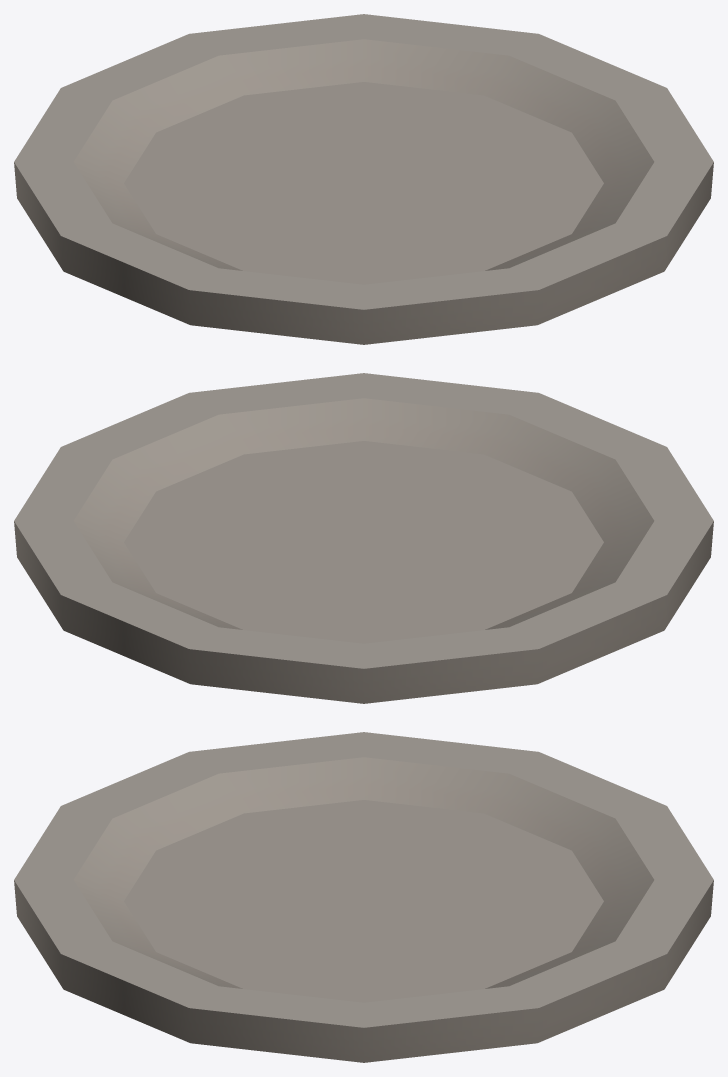
The model's file is plate.obj.
The picture shows the model from 3 angles, top to bottom: view 1: azimuth 30°, elevation 25°; view 2: azimuth 150°, elevation 25°; view 3: azimuth 270°, elevation 25°; orthographic projection.
Parts seen in each view (by area): view 1: plate; view 2: plate; view 3: plate.
Part boxes in pixels (box(x1,y1,x2,y2)): plate: box(14, 14, 713, 344); plate: box(14, 373, 713, 703); plate: box(14, 732, 713, 1062).
Bounding box in the file's own units: 0.9706 × 0.1294 × 0.9706.
Materials: 1 (1 with a texture image).
